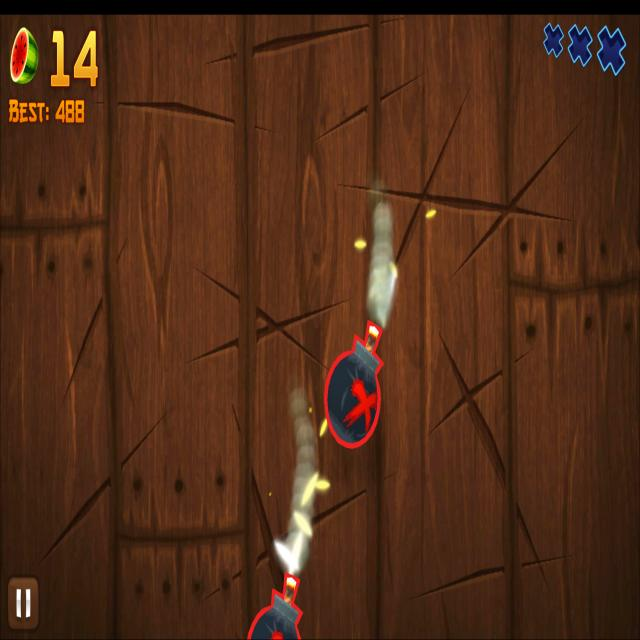bomb: (324, 320, 385, 449), (246, 571, 301, 640)
